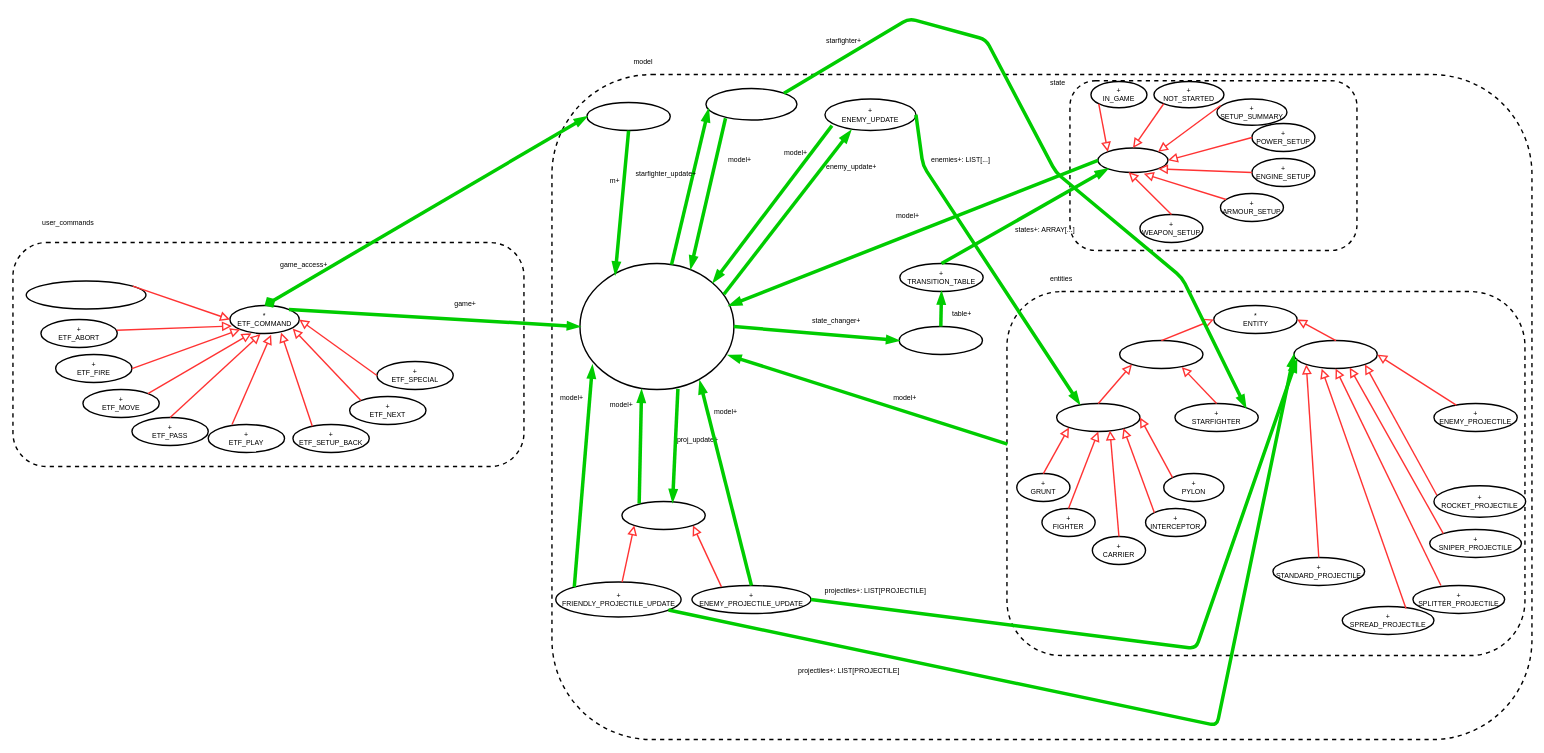
Image size: 1544x753. Some labels were removed from this diagram. The centre of each missing label's shape, as x and y in pixels:
"* ENEMY" goes at point (1098, 417).
"* LIFEFORM" goes at point (1161, 354).
"* PROJECTILE" goes at point (1335, 354).
"* STATE_MAIN" goes at point (1132, 160).
"+ ETF_TOGGLE_DEBUG_MODE" goes at point (85, 294).
"+ GAME" goes at point (656, 326).
"+ GAME_ACCESS" goes at point (628, 116).
"+ PROJECTILE_UPDATE" goes at point (663, 515).
"+ STARFIGHTER_UPDATE" goes at point (751, 104).
"+ STATE_CHANGER" goes at point (940, 340).
